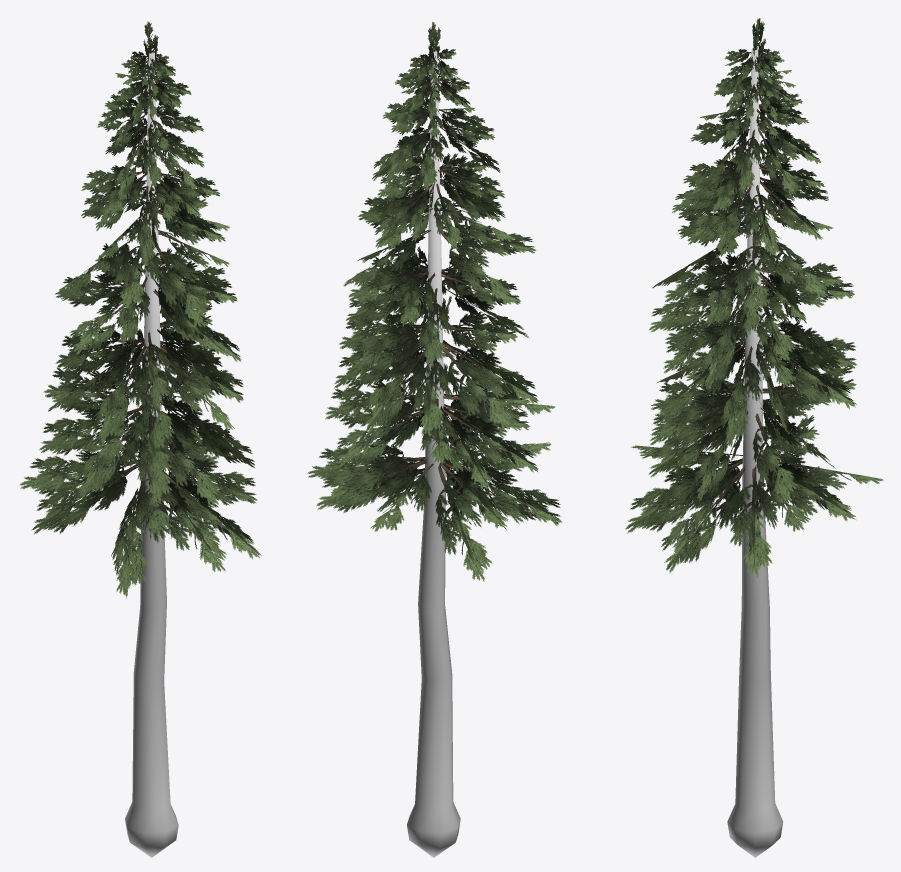
Rendered from Pine_06.fbx.
3 renders of one model, left to right at view 1: azimuth 30°, elevation 25°; view 2: azimuth 150°, elevation 25°; view 3: azimuth 270°, elevation 25°, orthographic.
Parts seen in each view (by area): view 1: polySurface1; view 2: polySurface1; view 3: polySurface1.
Part boxes in pixels (<box>): polySurface1: <box>20,21,261,857</box>; polySurface1: <box>307,22,561,857</box>; polySurface1: <box>625,18,883,857</box>.
Bounding box in the file's own units: 4.75 × 16.37 × 4.87.
